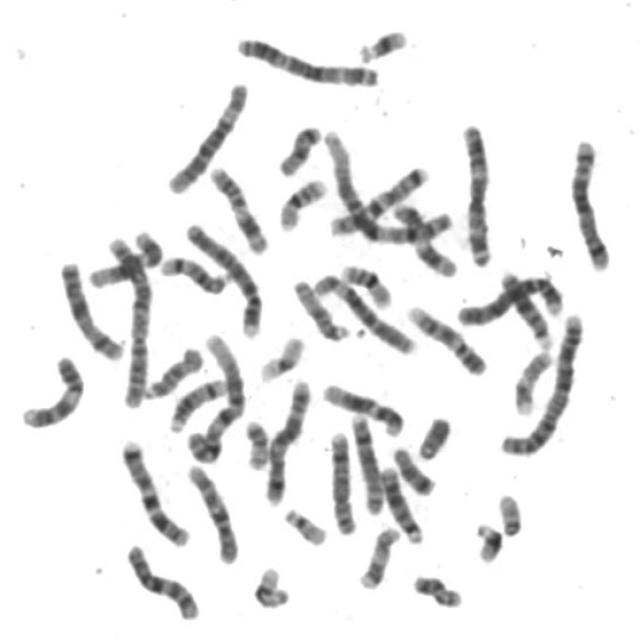A1: (322, 121, 457, 245), (183, 328, 249, 465)
A2: (496, 305, 590, 458), (102, 228, 156, 410)
A3: (231, 29, 384, 88), (456, 114, 498, 269)
B4: (180, 213, 268, 339), (452, 268, 568, 328)
B5: (260, 371, 316, 507), (565, 130, 616, 272)
C10: (120, 535, 204, 622), (182, 456, 244, 566)
C11: (387, 192, 463, 280), (205, 158, 272, 256)
C12: (317, 374, 409, 438), (83, 222, 165, 290)
C6: (162, 73, 253, 195), (307, 265, 419, 357)
C7: (115, 433, 194, 548), (325, 158, 437, 238)
C8: (346, 406, 387, 516), (324, 424, 361, 536)
C9: (403, 297, 492, 377), (16, 347, 89, 431)
D13: (495, 264, 557, 350), (376, 459, 427, 545)
D14: (164, 371, 230, 434), (156, 247, 234, 295)
D15: (288, 271, 355, 343), (138, 339, 207, 401)
E16: (273, 170, 331, 232), (336, 256, 396, 310)
E17: (354, 519, 404, 591), (510, 342, 557, 417)
E18: (274, 116, 326, 178), (387, 438, 440, 497)
F19: (255, 328, 309, 384), (248, 559, 294, 610)
F20: (408, 565, 466, 610), (239, 413, 273, 471)
G21: (353, 20, 412, 64), (470, 515, 508, 565)
G22: (279, 501, 331, 547), (493, 485, 527, 538)
X: (54, 253, 128, 362)
Y: (413, 408, 455, 462)
